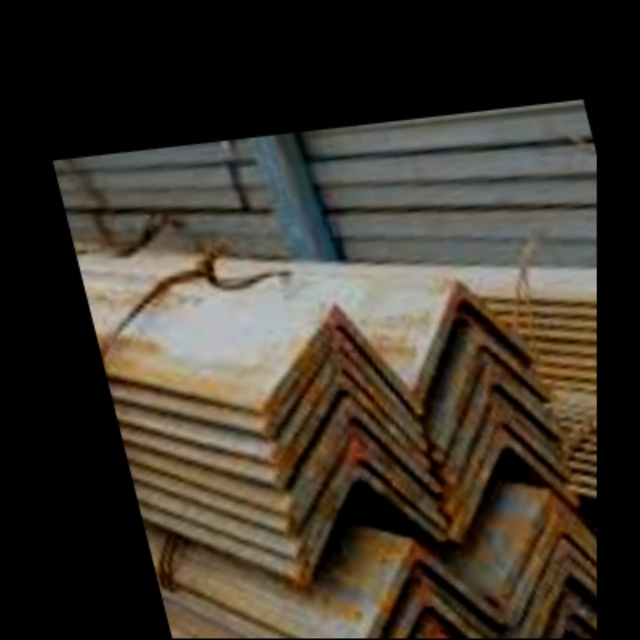Angle: (243, 306, 419, 423), (250, 333, 421, 447), (248, 354, 424, 462), (280, 469, 446, 577), (257, 378, 426, 484), (274, 447, 443, 552), (268, 402, 437, 504), (272, 429, 439, 530), (416, 323, 557, 441), (424, 364, 565, 481), (333, 544, 506, 638), (398, 283, 533, 394), (434, 436, 578, 539), (431, 413, 569, 508), (429, 395, 561, 493), (333, 568, 498, 638), (482, 497, 597, 594), (492, 520, 597, 614), (496, 542, 597, 638), (497, 565, 597, 638), (354, 591, 503, 638), (510, 603, 597, 638)
